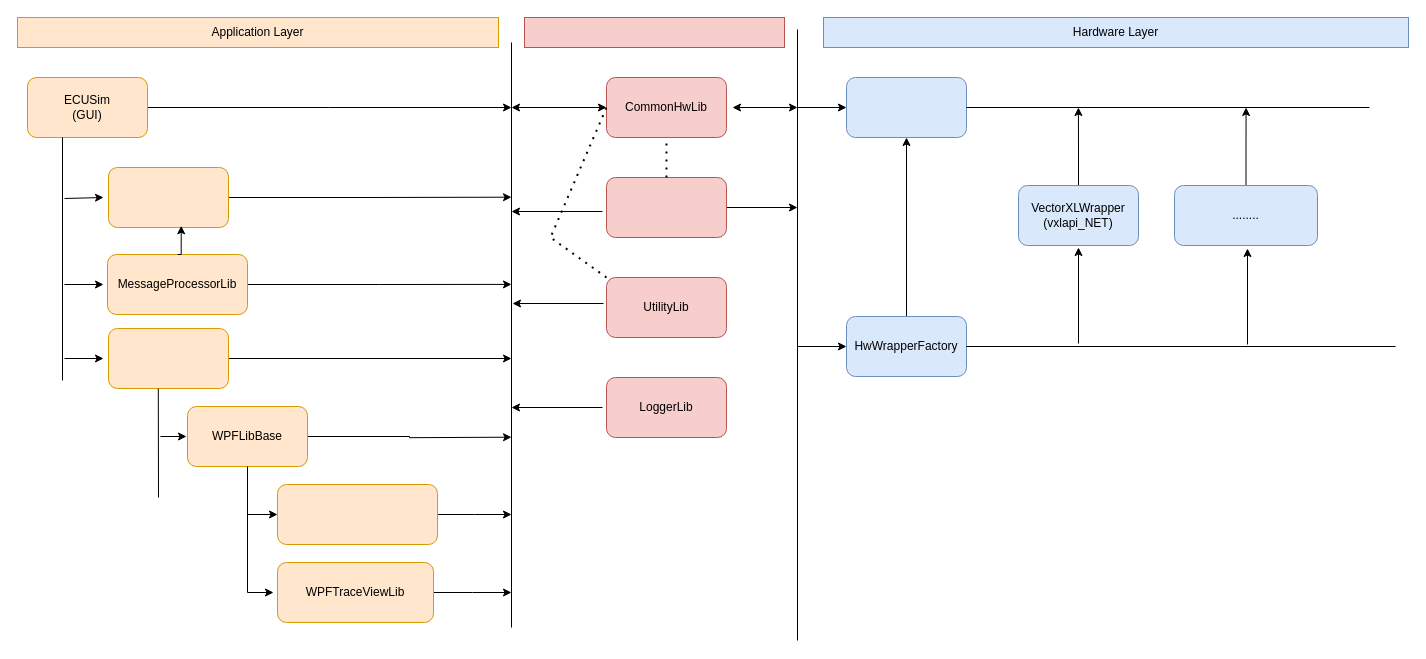
Some shapes in this 1426 by 659 pixel diagram are drawn without their labels. Each missing label, with the box of its shape:
Common Layer: (524, 16, 784, 48)
HwSettingsLib: (606, 176, 726, 238)
HwWrapperInterface: (846, 76, 966, 138)
MessageDesignerLib: (108, 166, 228, 228)
WPFComSettingsViewLib: (276, 484, 438, 544)
WPFHostLib (ElementHost): (108, 328, 228, 388)
